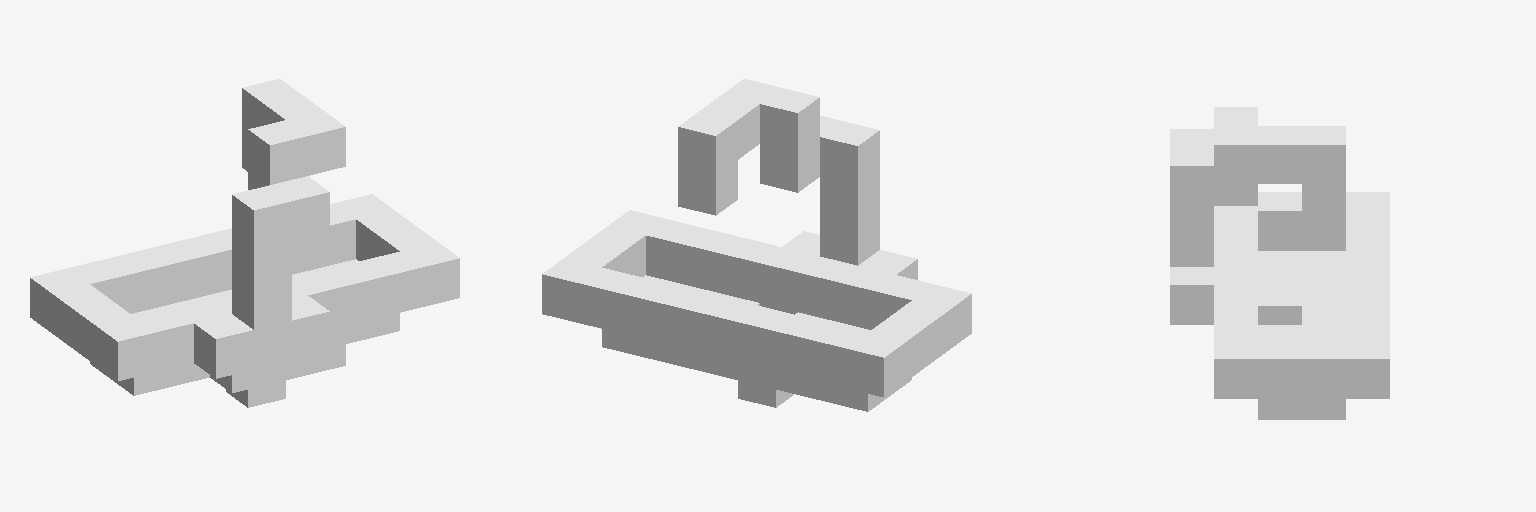
Rendered from Kitchen-2-Sink.obj.
3 views of the same model, side by side, from view 1: azimuth 30°, elevation 25°; view 2: azimuth 150°, elevation 25°; view 3: azimuth 270°, elevation 25° (orthographic).
Visible parts, largest first — view 1: Sink; view 2: Sink; view 3: Sink.
Boxes of the visible parts, x1=… form: Sink: x1=30, y1=79, x2=459, y2=407; Sink: x1=542, y1=79, x2=971, y2=411; Sink: x1=1170, y1=107, x2=1389, y2=419.
Bounding box in the file's own units: 0.9 × 0.7 × 0.5.